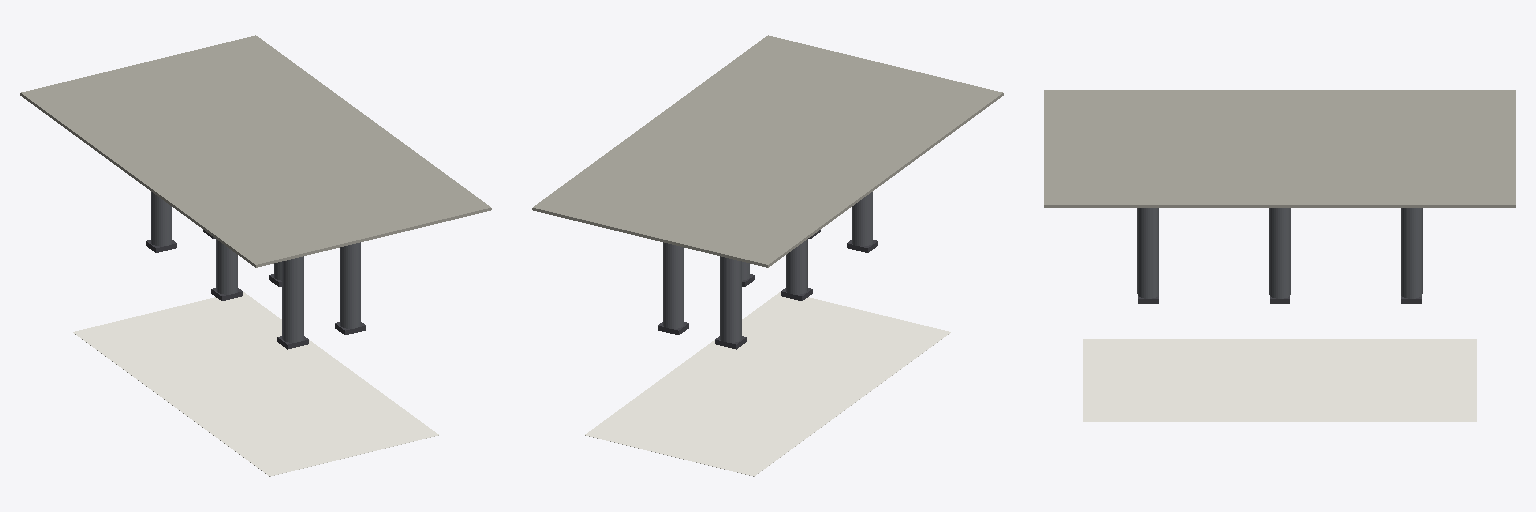
robot.urdf — aris_proposed_rig_env:
<?xml version='1.0' encoding='utf-8'?>
<robot name="aris_proposed_rig_env">
  <link name="world" />
  <link name="paper">
    <visual>
      <origin xyz="0.9017 1.81532 -0.001" />
      <geometry>
        <box size="1.8034 3.63064 0.002" />
      </geometry>
      <material name="paper_mat">
        <color rgba="0.98 0.97 0.94 1.0" />
      </material>
    </visual>
    <collision>
      <origin xyz="0.9017 1.81532 -0.001" />
      <geometry>
        <box size="1.8034 3.63064 0.002" />
      </geometry>
    </collision>
  </link>
  <joint name="paper_weld" type="fixed">
    <parent link="world" />
    <child link="paper" />
  </joint>
  <link name="mount13_plate">
    <visual>
      <origin xyz="0.5967 0.605106667 0.995" />
      <geometry>
        <box size="0.226 0.19 0.05" />
      </geometry>
      <material name="mount13_plate_mat">
        <color rgba="0.33 0.33 0.35 1.0" />
      </material>
    </visual>
    <collision>
      <origin xyz="0.5967 0.605106667 0.995" />
      <geometry>
        <box size="0.226 0.19 0.05" />
      </geometry>
    </collision>
  </link>
  <joint name="mount13_plate_weld" type="fixed">
    <parent link="world" />
    <child link="mount13_plate" />
  </joint>
  <link name="mount13_boom">
    <visual>
      <origin xyz="0.5967 0.605106667 1.68" />
      <geometry>
        <cylinder radius="0.1" length="1.32" />
      </geometry>
      <material name="mount13_boom_mat">
        <color rgba="0.45 0.46 0.48 1.0" />
      </material>
    </visual>
    <collision>
      <origin xyz="0.5967 0.605106667 1.68" />
      <geometry>
        <box size="0.2 0.2 1.32" />
      </geometry>
    </collision>
  </link>
  <joint name="mount13_boom_weld" type="fixed">
    <parent link="world" />
    <child link="mount13_boom" />
  </joint>
  <link name="mount17_plate">
    <visual>
      <origin xyz="1.2067 0.605106667 0.995" />
      <geometry>
        <box size="0.226 0.19 0.05" />
      </geometry>
      <material name="mount17_plate_mat">
        <color rgba="0.33 0.33 0.35 1.0" />
      </material>
    </visual>
    <collision>
      <origin xyz="1.2067 0.605106667 0.995" />
      <geometry>
        <box size="0.226 0.19 0.05" />
      </geometry>
    </collision>
  </link>
  <joint name="mount17_plate_weld" type="fixed">
    <parent link="world" />
    <child link="mount17_plate" />
  </joint>
  <link name="mount17_boom">
    <visual>
      <origin xyz="1.2067 0.605106667 1.68" />
      <geometry>
        <cylinder radius="0.1" length="1.32" />
      </geometry>
      <material name="mount17_boom_mat">
        <color rgba="0.45 0.46 0.48 1.0" />
      </material>
    </visual>
    <collision>
      <origin xyz="1.2067 0.605106667 1.68" />
      <geometry>
        <box size="0.2 0.2 1.32" />
      </geometry>
    </collision>
  </link>
  <joint name="mount17_boom_weld" type="fixed">
    <parent link="world" />
    <child link="mount17_boom" />
  </joint>
  <link name="mount31_plate">
    <visual>
      <origin xyz="0.5967 1.81532 0.995" />
      <geometry>
        <box size="0.226 0.19 0.05" />
      </geometry>
      <material name="mount31_plate_mat">
        <color rgba="0.33 0.33 0.35 1.0" />
      </material>
    </visual>
    <collision>
      <origin xyz="0.5967 1.81532 0.995" />
      <geometry>
        <box size="0.226 0.19 0.05" />
      </geometry>
    </collision>
  </link>
  <joint name="mount31_plate_weld" type="fixed">
    <parent link="world" />
    <child link="mount31_plate" />
  </joint>
  <link name="mount31_boom">
    <visual>
      <origin xyz="0.5967 1.81532 1.68" />
      <geometry>
        <cylinder radius="0.1" length="1.32" />
      </geometry>
      <material name="mount31_boom_mat">
        <color rgba="0.45 0.46 0.48 1.0" />
      </material>
    </visual>
    <collision>
      <origin xyz="0.5967 1.81532 1.68" />
      <geometry>
        <box size="0.2 0.2 1.32" />
      </geometry>
    </collision>
  </link>
  <joint name="mount31_boom_weld" type="fixed">
    <parent link="world" />
    <child link="mount31_boom" />
  </joint>
  <link name="mount71_plate">
    <visual>
      <origin xyz="1.2067 1.81532 0.995" />
      <geometry>
        <box size="0.226 0.19 0.05" />
      </geometry>
      <material name="mount71_plate_mat">
        <color rgba="0.33 0.33 0.35 1.0" />
      </material>
    </visual>
    <collision>
      <origin xyz="1.2067 1.81532 0.995" />
      <geometry>
        <box size="0.226 0.19 0.05" />
      </geometry>
    </collision>
  </link>
  <joint name="mount71_plate_weld" type="fixed">
    <parent link="world" />
    <child link="mount71_plate" />
  </joint>
  <link name="mount71_boom">
    <visual>
      <origin xyz="1.2067 1.81532 1.68" />
      <geometry>
        <cylinder radius="0.1" length="1.32" />
      </geometry>
      <material name="mount71_boom_mat">
        <color rgba="0.45 0.46 0.48 1.0" />
      </material>
    </visual>
    <collision>
      <origin xyz="1.2067 1.81532 1.68" />
      <geometry>
        <box size="0.2 0.2 1.32" />
      </geometry>
    </collision>
  </link>
  <joint name="mount71_boom_weld" type="fixed">
    <parent link="world" />
    <child link="mount71_boom" />
  </joint>
  <link name="mount2_plate">
    <visual>
      <origin xyz="0.5967 3.025533333 0.995" />
      <geometry>
        <box size="0.226 0.19 0.05" />
      </geometry>
      <material name="mount2_plate_mat">
        <color rgba="0.33 0.33 0.35 1.0" />
      </material>
    </visual>
    <collision>
      <origin xyz="0.5967 3.025533333 0.995" />
      <geometry>
        <box size="0.226 0.19 0.05" />
      </geometry>
    </collision>
  </link>
  <joint name="mount2_plate_weld" type="fixed">
    <parent link="world" />
    <child link="mount2_plate" />
  </joint>
  <link name="mount2_boom">
    <visual>
      <origin xyz="0.5967 3.025533333 1.68" />
      <geometry>
        <cylinder radius="0.1" length="1.32" />
      </geometry>
      <material name="mount2_boom_mat">
        <color rgba="0.45 0.46 0.48 1.0" />
      </material>
    </visual>
    <collision>
      <origin xyz="0.5967 3.025533333 1.68" />
      <geometry>
        <box size="0.2 0.2 1.32" />
      </geometry>
    </collision>
  </link>
  <joint name="mount2_boom_weld" type="fixed">
    <parent link="world" />
    <child link="mount2_boom" />
  </joint>
  <link name="mount97_plate">
    <visual>
      <origin xyz="1.2067 3.025533333 0.995" />
      <geometry>
        <box size="0.226 0.19 0.05" />
      </geometry>
      <material name="mount97_plate_mat">
        <color rgba="0.33 0.33 0.35 1.0" />
      </material>
    </visual>
    <collision>
      <origin xyz="1.2067 3.025533333 0.995" />
      <geometry>
        <box size="0.226 0.19 0.05" />
      </geometry>
    </collision>
  </link>
  <joint name="mount97_plate_weld" type="fixed">
    <parent link="world" />
    <child link="mount97_plate" />
  </joint>
  <link name="mount97_boom">
    <visual>
      <origin xyz="1.2067 3.025533333 1.68" />
      <geometry>
        <cylinder radius="0.1" length="1.32" />
      </geometry>
      <material name="mount97_boom_mat">
        <color rgba="0.45 0.46 0.48 1.0" />
      </material>
    </visual>
    <collision>
      <origin xyz="1.2067 3.025533333 1.68" />
      <geometry>
        <box size="0.2 0.2 1.32" />
      </geometry>
    </collision>
  </link>
  <joint name="mount97_boom_weld" type="fixed">
    <parent link="world" />
    <child link="mount97_boom" />
  </joint>
  <link name="ceiling_grid_ref">
    <visual>
      <origin xyz="0.9017 1.81532 2.355" />
      <geometry>
        <box size="2.5034 4.33064 0.03" />
      </geometry>
      <material name="ceiling_grid_ref_mat">
        <color rgba="0.72 0.71 0.67 0.25" />
      </material>
    </visual>
  </link>
  <joint name="ceiling_grid_ref_weld" type="fixed">
    <parent link="world" />
    <child link="ceiling_grid_ref" />
  </joint>
</robot>

--- Facts derived from the render (not from the file) ---
3 views of the same robot in one strip: view 1: azimuth 30°, elevation 25°; view 2: azimuth 150°, elevation 25°; view 3: azimuth 270°, elevation 25° (orthographic).
Robot: aris_proposed_rig_env — 15 links, 14 joints (14 fixed); root link world; default pose: every joint at zero.
Visible links, largest first — view 1: ceiling_grid_ref, paper, mount13_boom, mount17_boom, mount31_boom, mount2_boom; view 2: ceiling_grid_ref, paper, mount2_boom, mount97_boom, mount31_boom, mount13_boom; view 3: ceiling_grid_ref, paper, mount17_boom, mount71_boom, mount97_boom.
Link boxes in pixels (x1,y1,x2,y2): ceiling_grid_ref: (20, 35, 491, 267); paper: (73, 292, 438, 476); mount13_boom: (282, 256, 303, 342); mount17_boom: (340, 242, 360, 328); mount31_boom: (216, 239, 237, 294); mount2_boom: (151, 192, 171, 246); ceiling_grid_ref: (532, 35, 1003, 267); paper: (585, 292, 950, 476); mount2_boom: (720, 256, 741, 342); mount97_boom: (663, 242, 683, 328); mount31_boom: (786, 239, 807, 294); mount13_boom: (852, 192, 872, 246); ceiling_grid_ref: (1044, 90, 1515, 207); paper: (1083, 339, 1476, 421); mount17_boom: (1137, 208, 1158, 298); mount71_boom: (1269, 208, 1290, 298); mount97_boom: (1401, 208, 1422, 298).
Size in the robot's own frame: 2.5 by 4.33 by 2.37 metres.
Geometry: primitives only (box / cylinder / sphere), no mesh files.
